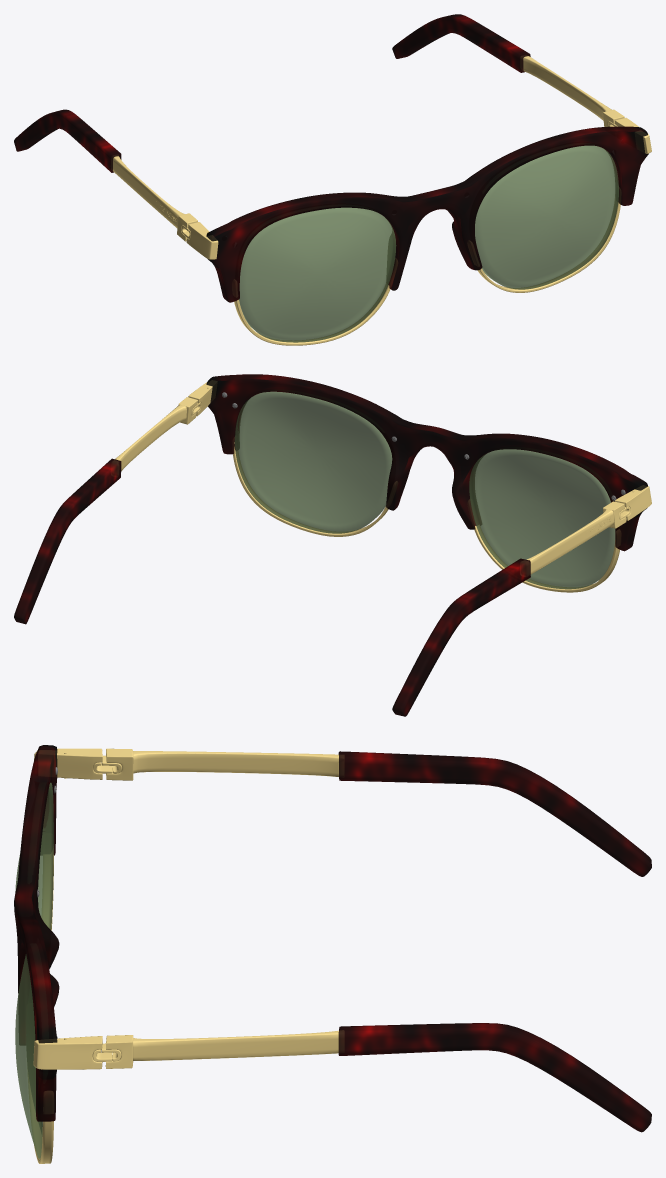
The model's file is eyeglasses4.glb.
3 views of the same model, one above another, from view 1: azimuth 30°, elevation 25°; view 2: azimuth 150°, elevation 25°; view 3: azimuth 270°, elevation 25° (orthographic). The views are drawn at different scales.
Visible parts, largest first — view 1: glasses, glasses.002, glasses.001; view 2: glasses, glasses.002, glasses.001; view 3: glasses, glasses.002, glasses.001, glasses.003.
Boxes of the visible parts, x1=… form: glasses: x1=14, y1=14, x2=620, y2=345; glasses.002: x1=206, y1=126, x2=648, y2=302; glasses.001: x1=177, y1=109, x2=651, y2=259; glasses: x1=14, y1=391, x2=619, y2=716; glasses.002: x1=206, y1=374, x2=647, y2=551; glasses.001: x1=178, y1=381, x2=651, y2=528; glasses: x1=15, y1=751, x2=651, y2=1163; glasses.002: x1=14, y1=745, x2=59, y2=1121; glasses.001: x1=33, y1=748, x2=133, y2=1069; glasses.003: x1=92, y1=755, x2=121, y2=1061.
Size of the model in its own units: 5.75 by 1.81 by 5.2.
5 materials, 2 textured.
